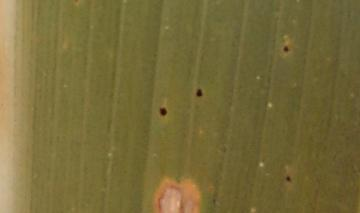tarspot: (190, 85, 205, 99), (157, 104, 170, 120), (281, 171, 295, 184), (280, 41, 292, 56)
